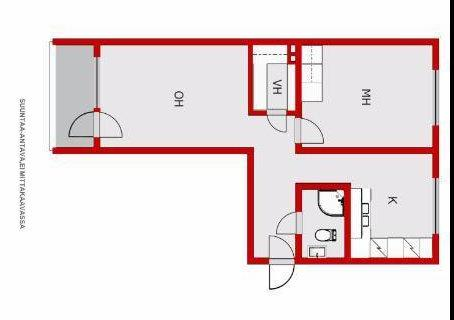bathroom: (301, 189, 345, 258)
door: (266, 259, 298, 292), (66, 110, 101, 140), (292, 117, 326, 146), (94, 110, 124, 141), (267, 235, 296, 265), (274, 211, 304, 236), (265, 108, 290, 134)
perimeter: (94, 37, 439, 264)
window: (430, 65, 442, 129), (431, 173, 441, 239)
